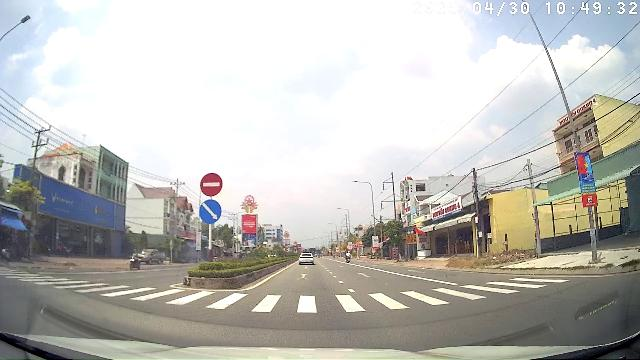102-cam-di-nguoc-chieu: (199, 172, 223, 196)
302a-huong-phai-di-vong-chuong-ngai-vat-1: (198, 198, 222, 224)
